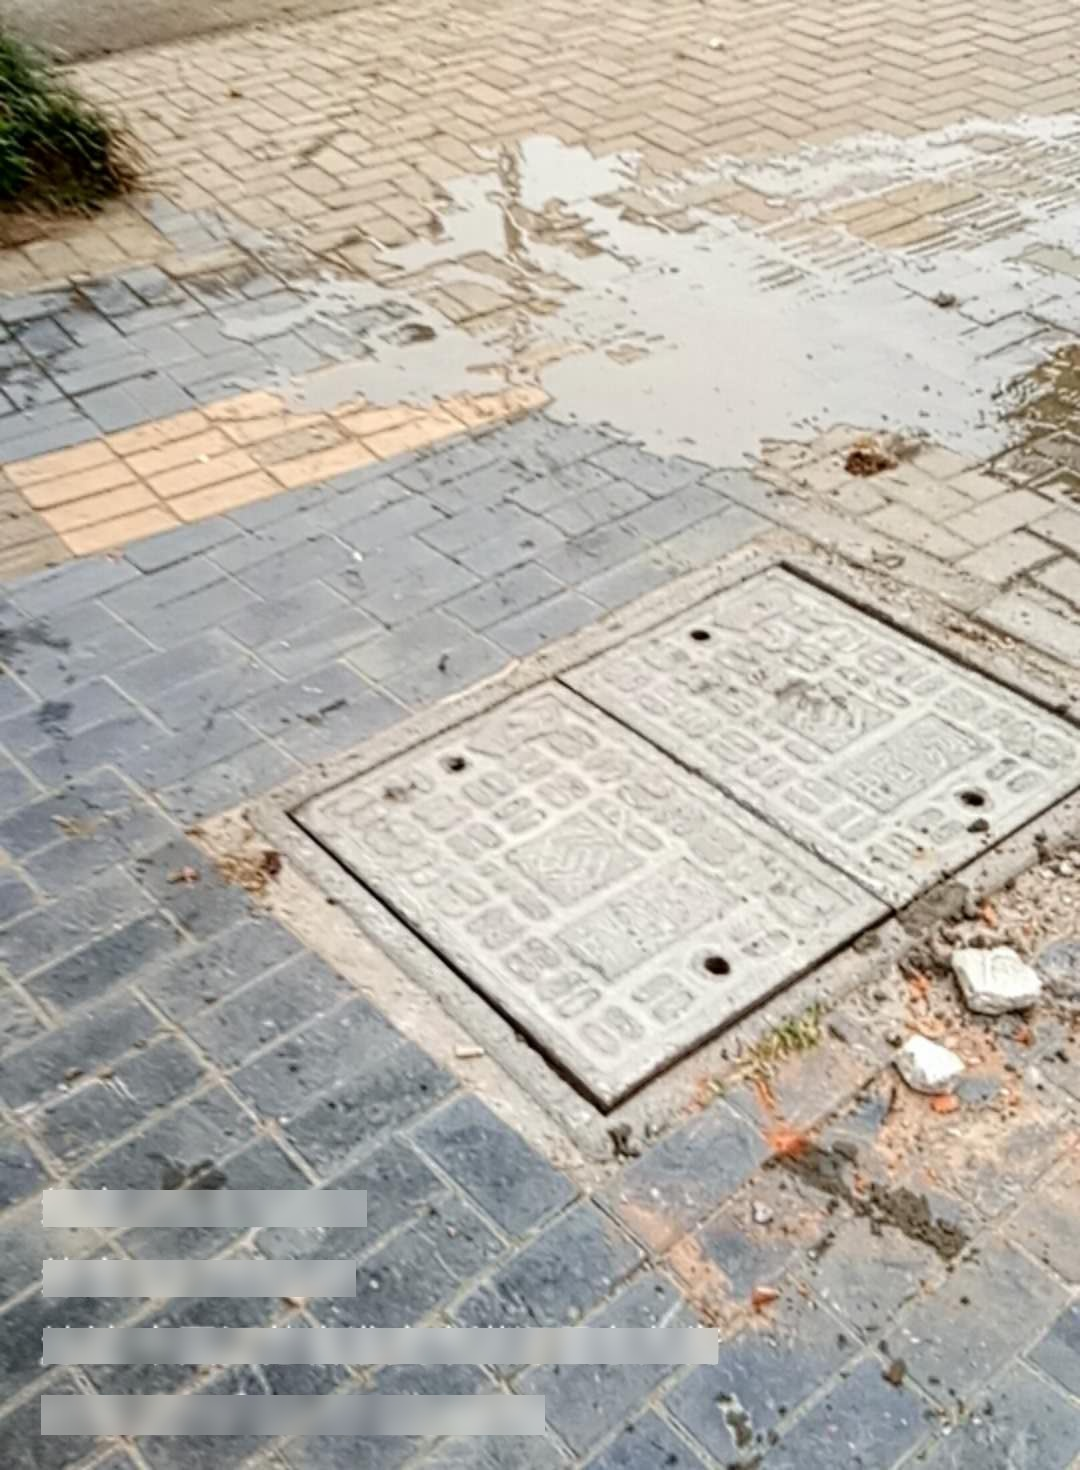good: (242, 524, 1080, 1162)
